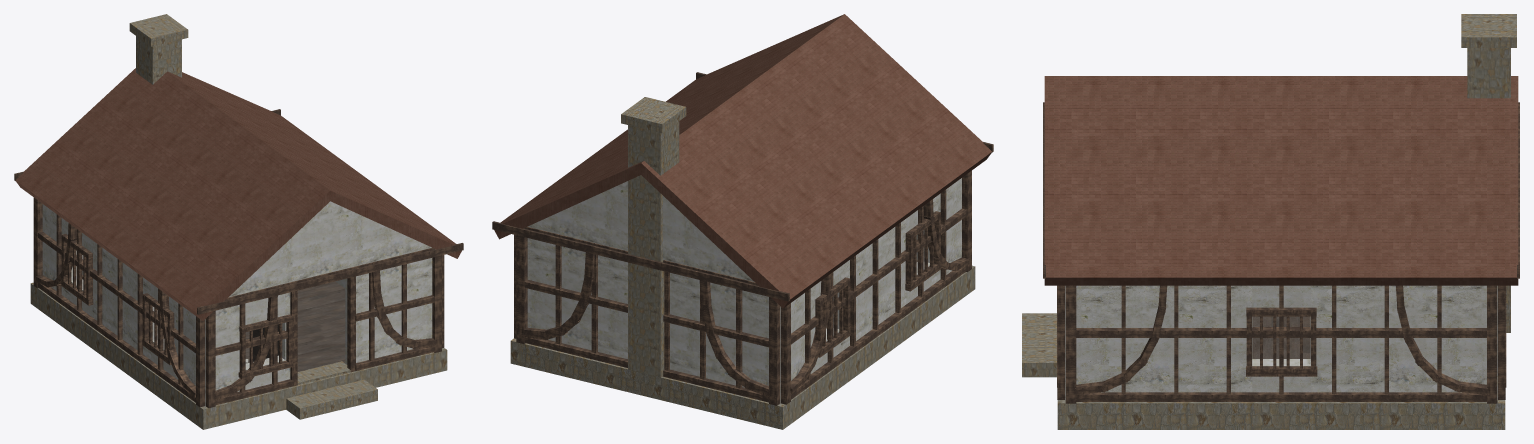
Rendered from prop_house_b_v2.glb.
3 renders of one model, left to right at view 1: azimuth 30°, elevation 25°; view 2: azimuth 150°, elevation 25°; view 3: azimuth 270°, elevation 25°, orthographic. The views are drawn at different scales.
Visible parts, largest first — view 1: building_house_b_v2; view 2: building_house_b_v2; view 3: building_house_b_v2.
Boxes of the visible parts, <box> form: building_house_b_v2: <box>14,14,463,429</box>; building_house_b_v2: <box>492,14,993,429</box>; building_house_b_v2: <box>1022,14,1519,429</box>.
Bounding box in the file's own units: 6.8 × 6.17 × 8.51.
5 materials, 5 textured.
